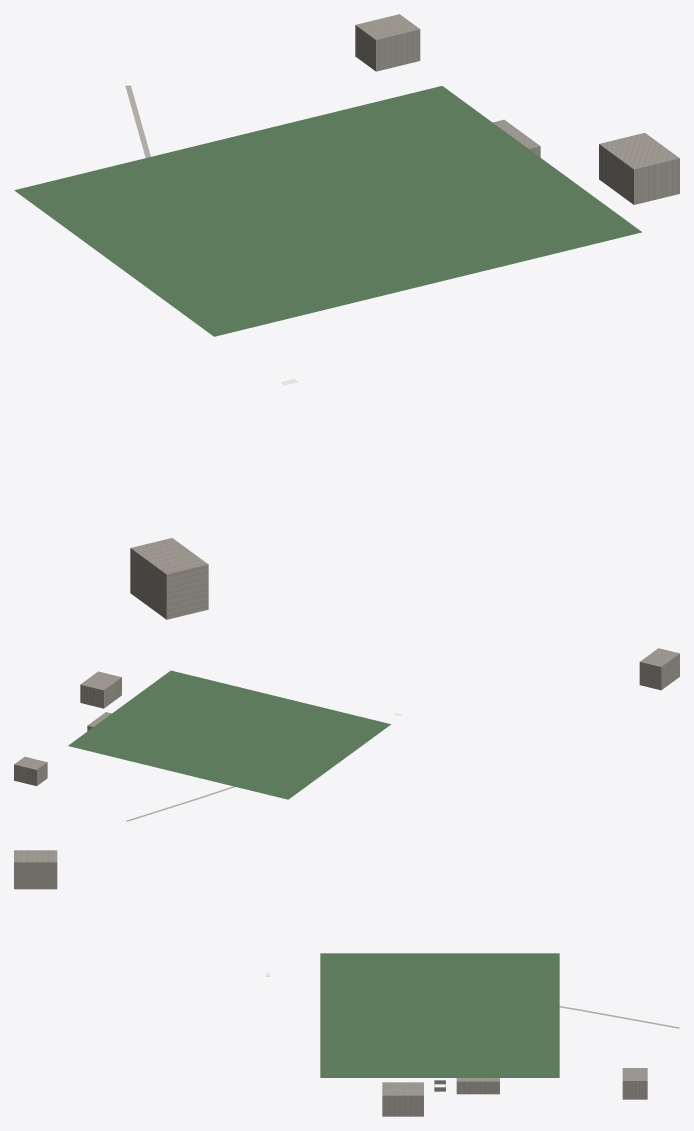
The model's file is cell_0_-4_full.gltf.
3 views of the same model, one above another, from view 1: azimuth 30°, elevation 25°; view 2: azimuth 150°, elevation 25°; view 3: azimuth 270°, elevation 25° (orthographic). The views are drawn at different scales.
Visible parts, largest first — view 1: OPENSPACE_350, MASS_YABA_010, MASS_YABA_003, MASS_YABA_011; view 2: OPENSPACE_350, MASS_YABA_010, MASS_YABA_003, MASS_YABA_011; view 3: OPENSPACE_350, MASS_YABA_010, MASS_YABA_003, MASS_YABA_011, MASS_YABA_005.
Boxes of the visible parts, x1,y1,x2,y2 form: OPENSPACE_350: [14, 86, 641, 336]; MASS_YABA_010: [130, 538, 208, 619]; MASS_YABA_003: [599, 133, 679, 204]; MASS_YABA_011: [355, 14, 420, 71]; OPENSPACE_350: [68, 670, 390, 799]; MASS_YABA_010: [639, 648, 679, 690]; MASS_YABA_003: [80, 671, 121, 708]; MASS_YABA_011: [14, 756, 47, 786]; OPENSPACE_350: [320, 953, 559, 1077]; MASS_YABA_010: [14, 850, 57, 889]; MASS_YABA_003: [382, 1082, 423, 1116]; MASS_YABA_011: [622, 1068, 647, 1099]; MASS_YABA_005: [456, 1078, 499, 1094].
Size of what is drawn, in the model's own units: 403 by 21.3 by 473.
Materials: 27 (1 with a texture image).
